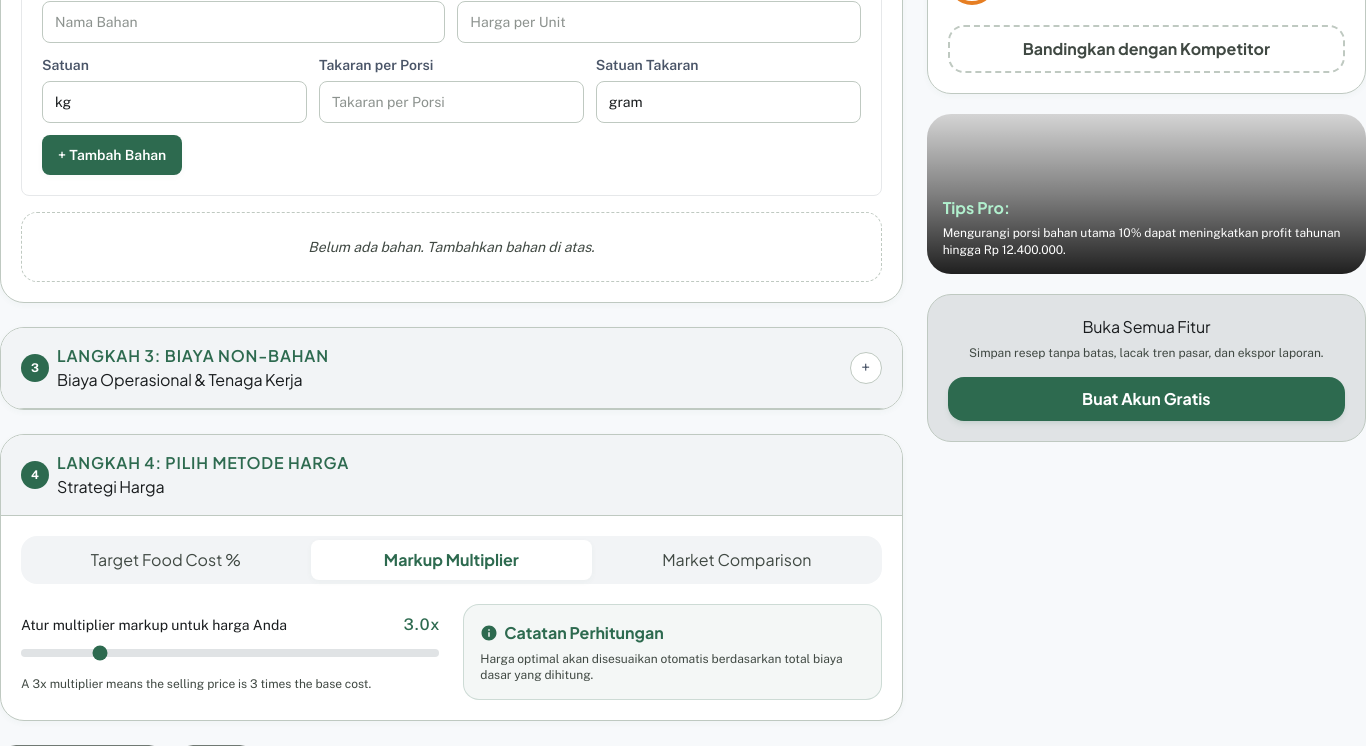
CalculatorPage › toggles overhead section when clicked
The image size is (1366, 746).
(page scrolled)
Click the button that starts with "Langkah 3: Biaya Non-Bahan" at [193, 356], box [1,328,902,409]
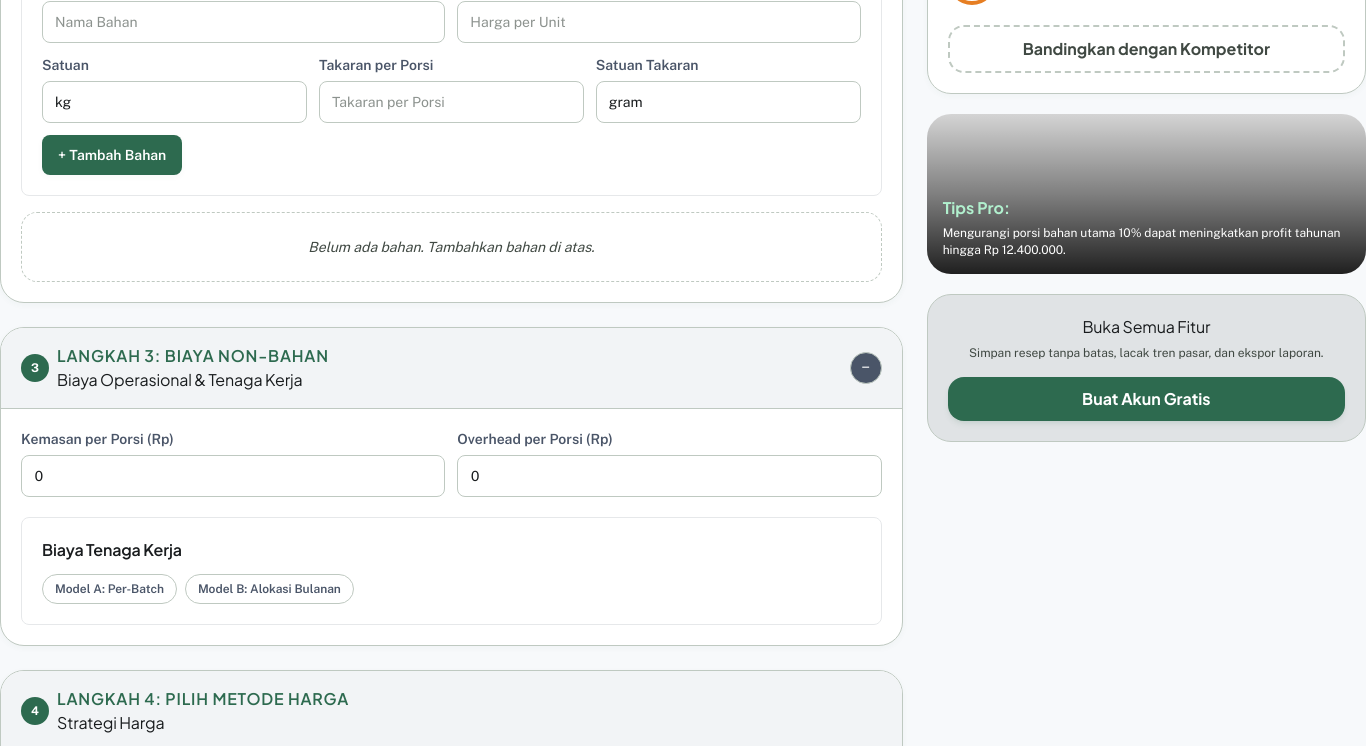
Check: the text "Kemasan per Porsi (Rp)" is shown, box [21,431,174,447]
